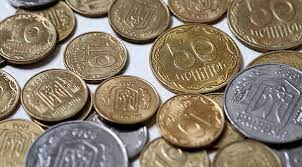coin_10: (165, 99, 216, 139), (99, 80, 150, 120), (72, 35, 123, 75), (29, 74, 80, 114), (113, 1, 161, 38), (1, 18, 49, 54), (173, 0, 221, 24), (222, 145, 274, 167), (146, 145, 197, 167)
coin_5: (236, 70, 299, 135), (44, 129, 112, 166)
coin_50: (162, 29, 232, 88), (237, 0, 302, 45)
